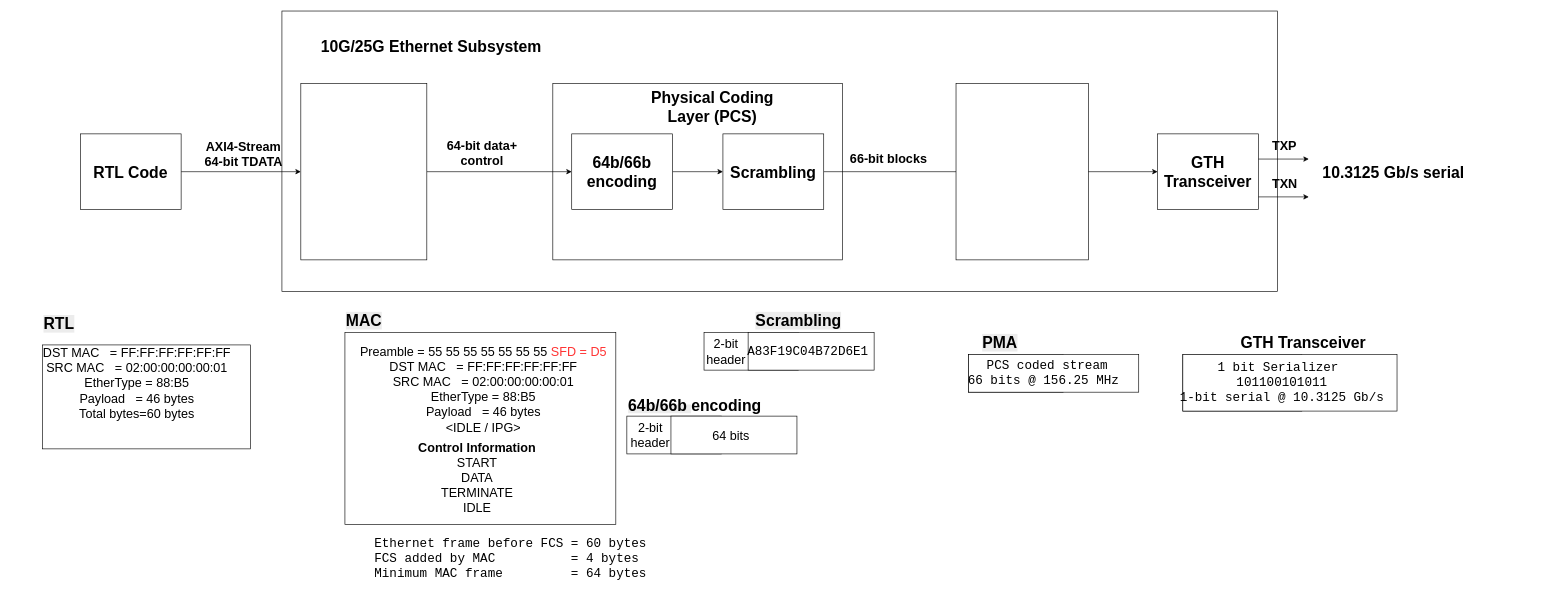
Some shapes in this 1565 by 600 pixel diagram are drawn without their labels. The box of each missing label's shape, as (x1, y1, x2, y2) in pixels:
Media Access Control (MAC): Preamble/SFD, FCS, IPG: (300, 83, 427, 260)
Physical Medium Attachment (PMA): High-speed PHY adaptation: (955, 83, 1088, 260)
